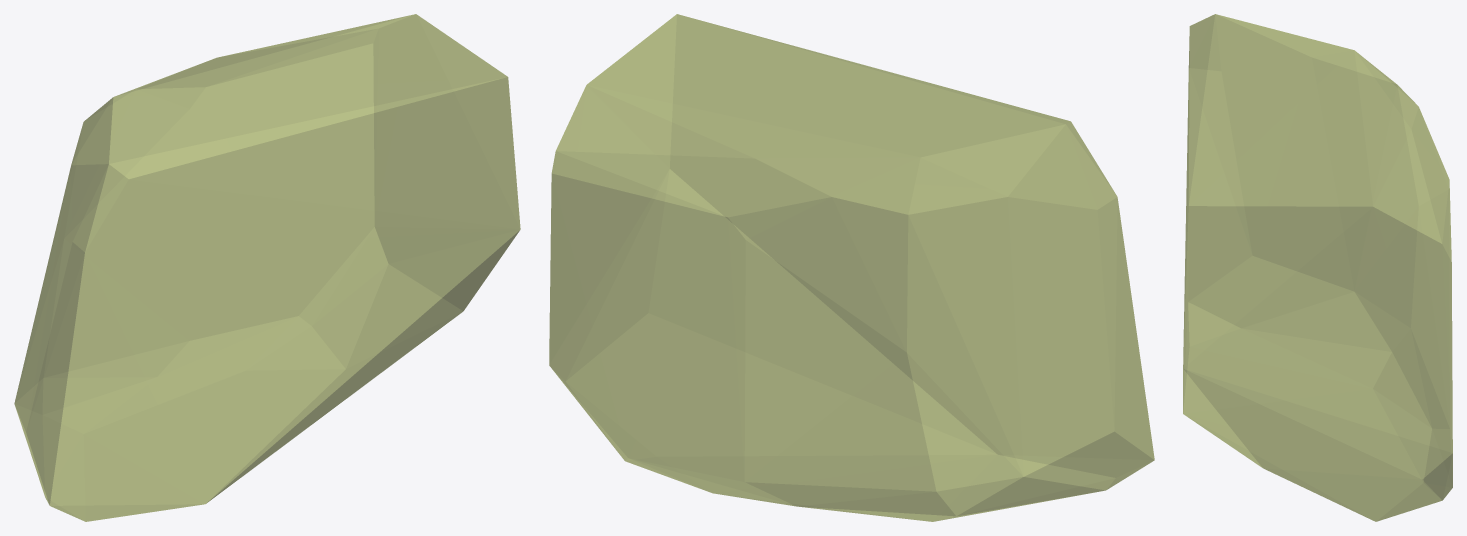
3 renders of one model, left to right at view 1: azimuth 30°, elevation 25°; view 2: azimuth 150°, elevation 25°; view 3: azimuth 270°, elevation 25°, orthographic. The views are drawn at different scales.
Visible parts, largest first — view 1: Shape_IndexedFaceSet.002_Shape_IndexedFaceSet.9137; view 2: Shape_IndexedFaceSet.002_Shape_IndexedFaceSet.9137; view 3: Shape_IndexedFaceSet.002_Shape_IndexedFaceSet.9137.
Part boxes in pixels (x1,y1,x2,y2): Shape_IndexedFaceSet.002_Shape_IndexedFaceSet.9137: (14,14,520,521); Shape_IndexedFaceSet.002_Shape_IndexedFaceSet.9137: (549,14,1154,521); Shape_IndexedFaceSet.002_Shape_IndexedFaceSet.9137: (1183,14,1452,521).
Bounding box in the file's own units: 0.1397 × 0.1 × 0.0676.
